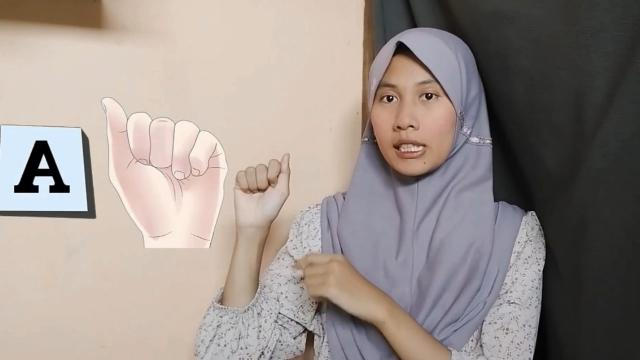A: (232, 149, 292, 231)
